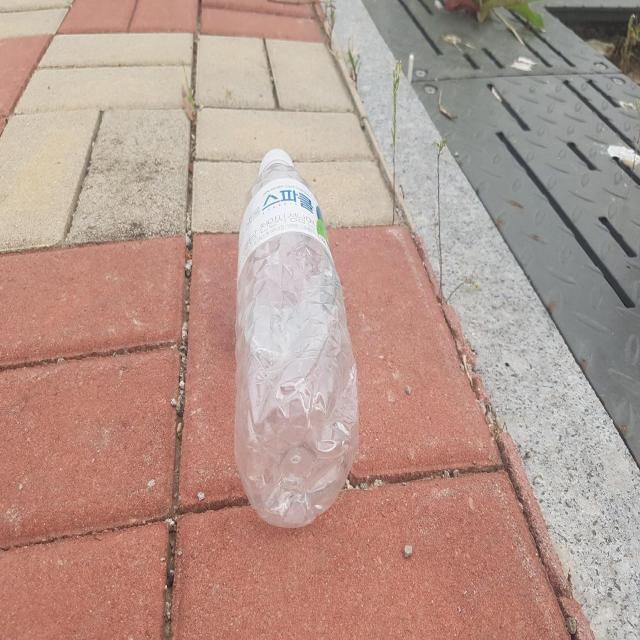plastic: (234, 148, 358, 528)
